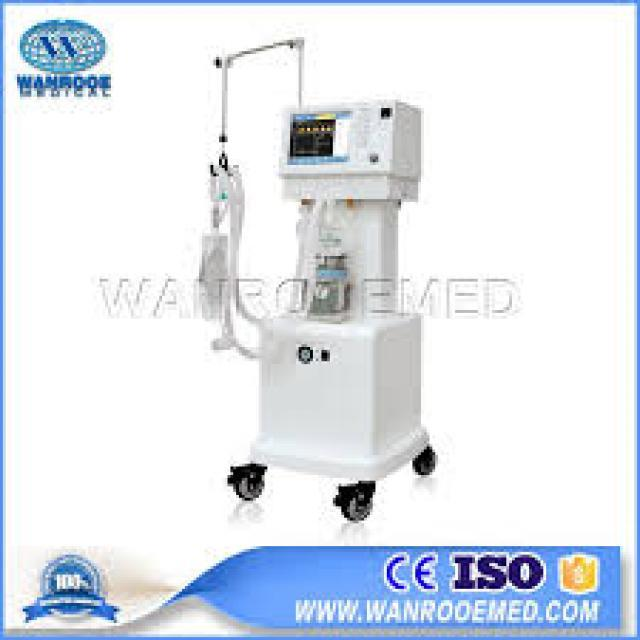ventilator: (173, 17, 481, 557)
